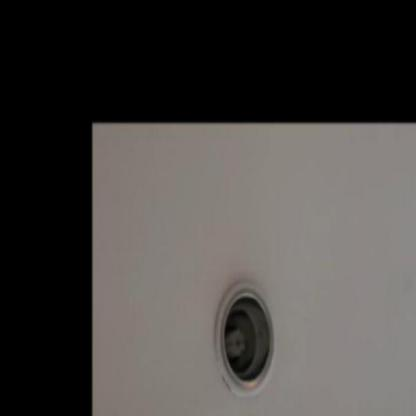light_off: (207, 260, 282, 404)
